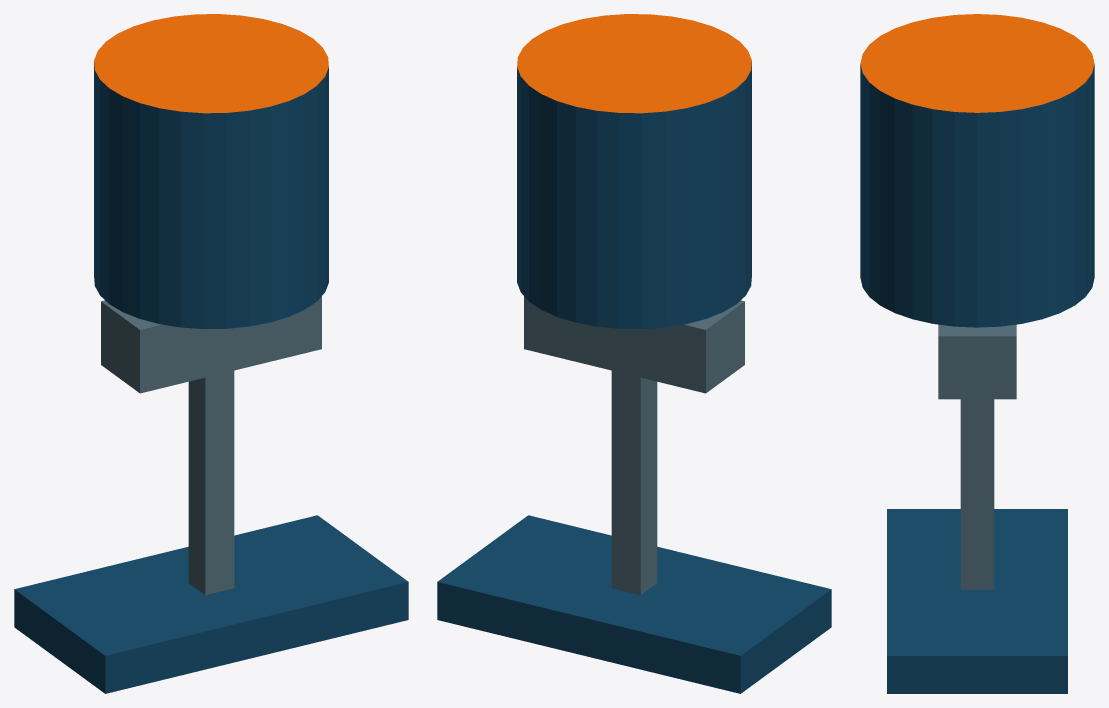
The model's file is lamp.glb.
3 renders of one model, left to right at view 1: azimuth 30°, elevation 25°; view 2: azimuth 150°, elevation 25°; view 3: azimuth 270°, elevation 25°, orthographic.
Bounding box in the file's own units: 1.25 × 2.2 × 0.84.
Materials: 3 (3 with a texture image).
